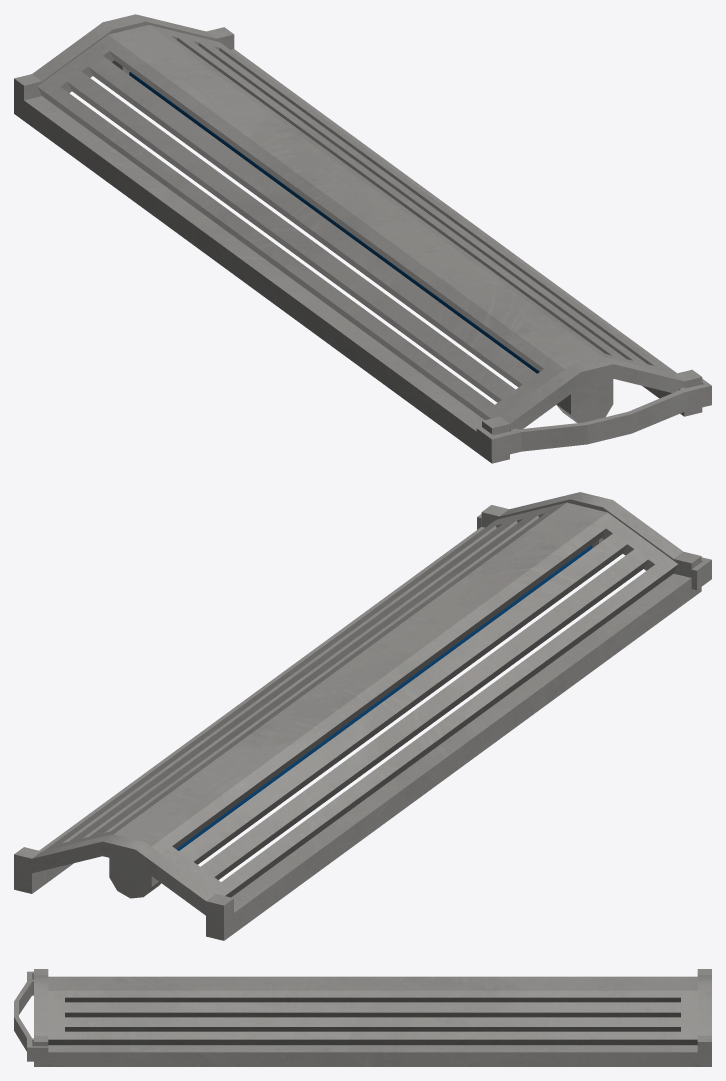
The model's file is Scifi Light Rod 2.FBX.
3 renders of one model, top to bottom at view 1: azimuth 30°, elevation 25°; view 2: azimuth 150°, elevation 25°; view 3: azimuth 270°, elevation 25°, orthographic. The views are drawn at different scales.
Visible parts, largest first — view 1: Light Props01; view 2: Light Props01; view 3: Light Props01.
Boxes of the visible parts, x1=… form: Light Props01: x1=14, y1=14, x2=711, y2=463; Light Props01: x1=14, y1=492, x2=711, y2=940; Light Props01: x1=14, y1=969, x2=711, y2=1066.
Bounding box in the file's own units: 27.76 × 8.41 × 107.
